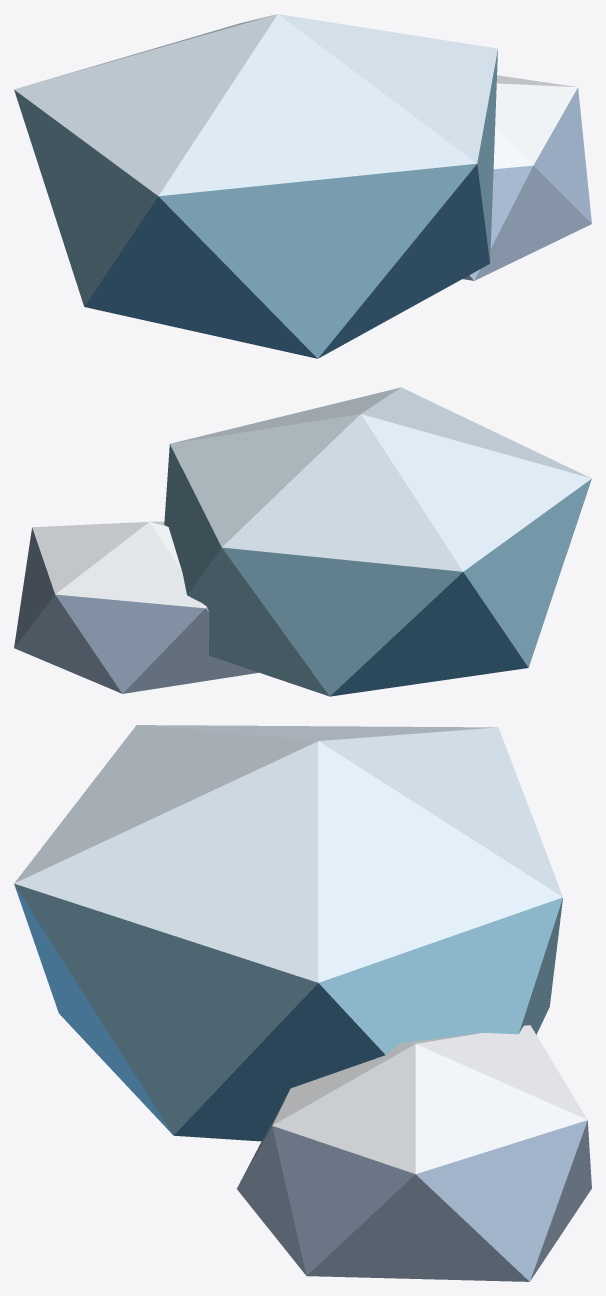
Rendered from Ice_Boulder.obj.
3 renders of one model, top to bottom at view 1: azimuth 30°, elevation 25°; view 2: azimuth 150°, elevation 25°; view 3: azimuth 270°, elevation 25°, orthographic. The views are drawn at different scales.
Parts seen in each view (by area): view 1: Ice_Boulder; view 2: Ice_Boulder; view 3: Ice_Boulder.
Part boxes in pixels (box(x1,y1,x2,y2)): Ice_Boulder: box(14, 14, 591, 358); Ice_Boulder: box(14, 387, 591, 696); Ice_Boulder: box(14, 725, 591, 1281).
Size of the model in its own units: 3.13 by 1.77 by 2.38.
Materials: 1 (1 with a texture image).
